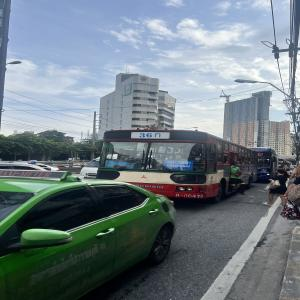BMTA-bus: (100, 129, 257, 203)
Bus Line Number: (137, 131, 163, 139), (256, 152, 264, 156)
Bus Side Number: (175, 192, 206, 199), (260, 172, 270, 173)
Destination Sign: (163, 160, 194, 171)
TSB-Bus: (249, 146, 278, 180)
